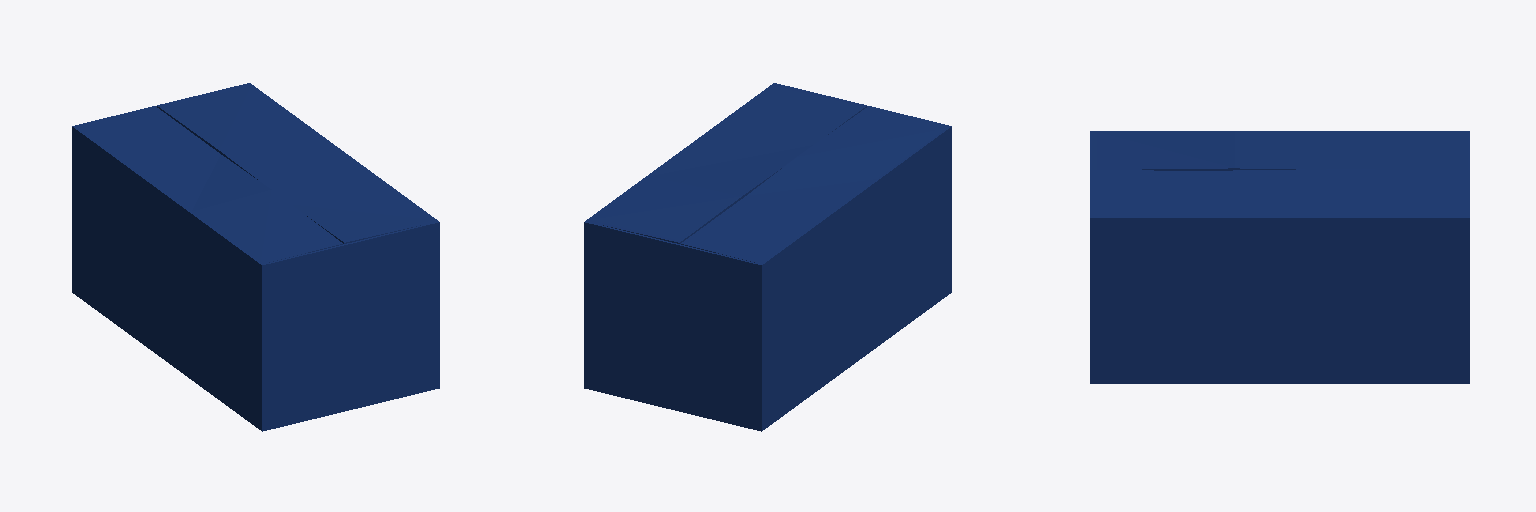
File: boox_4.obj
The picture shows the model from 3 angles: view 1: azimuth 30°, elevation 25°; view 2: azimuth 150°, elevation 25°; view 3: azimuth 270°, elevation 25°; orthographic projection.
Parts seen in each view (by area): view 1: pCube1; view 2: pCube1; view 3: pCube1.
Boxes of the visible parts, x1=… form: pCube1: x1=72, y1=83, x2=439, y2=431; pCube1: x1=584, y1=83, x2=951, y2=431; pCube1: x1=1090, y1=131, x2=1469, y2=383.
Size of the model in its own units: 90.22 by 81.76 by 167.